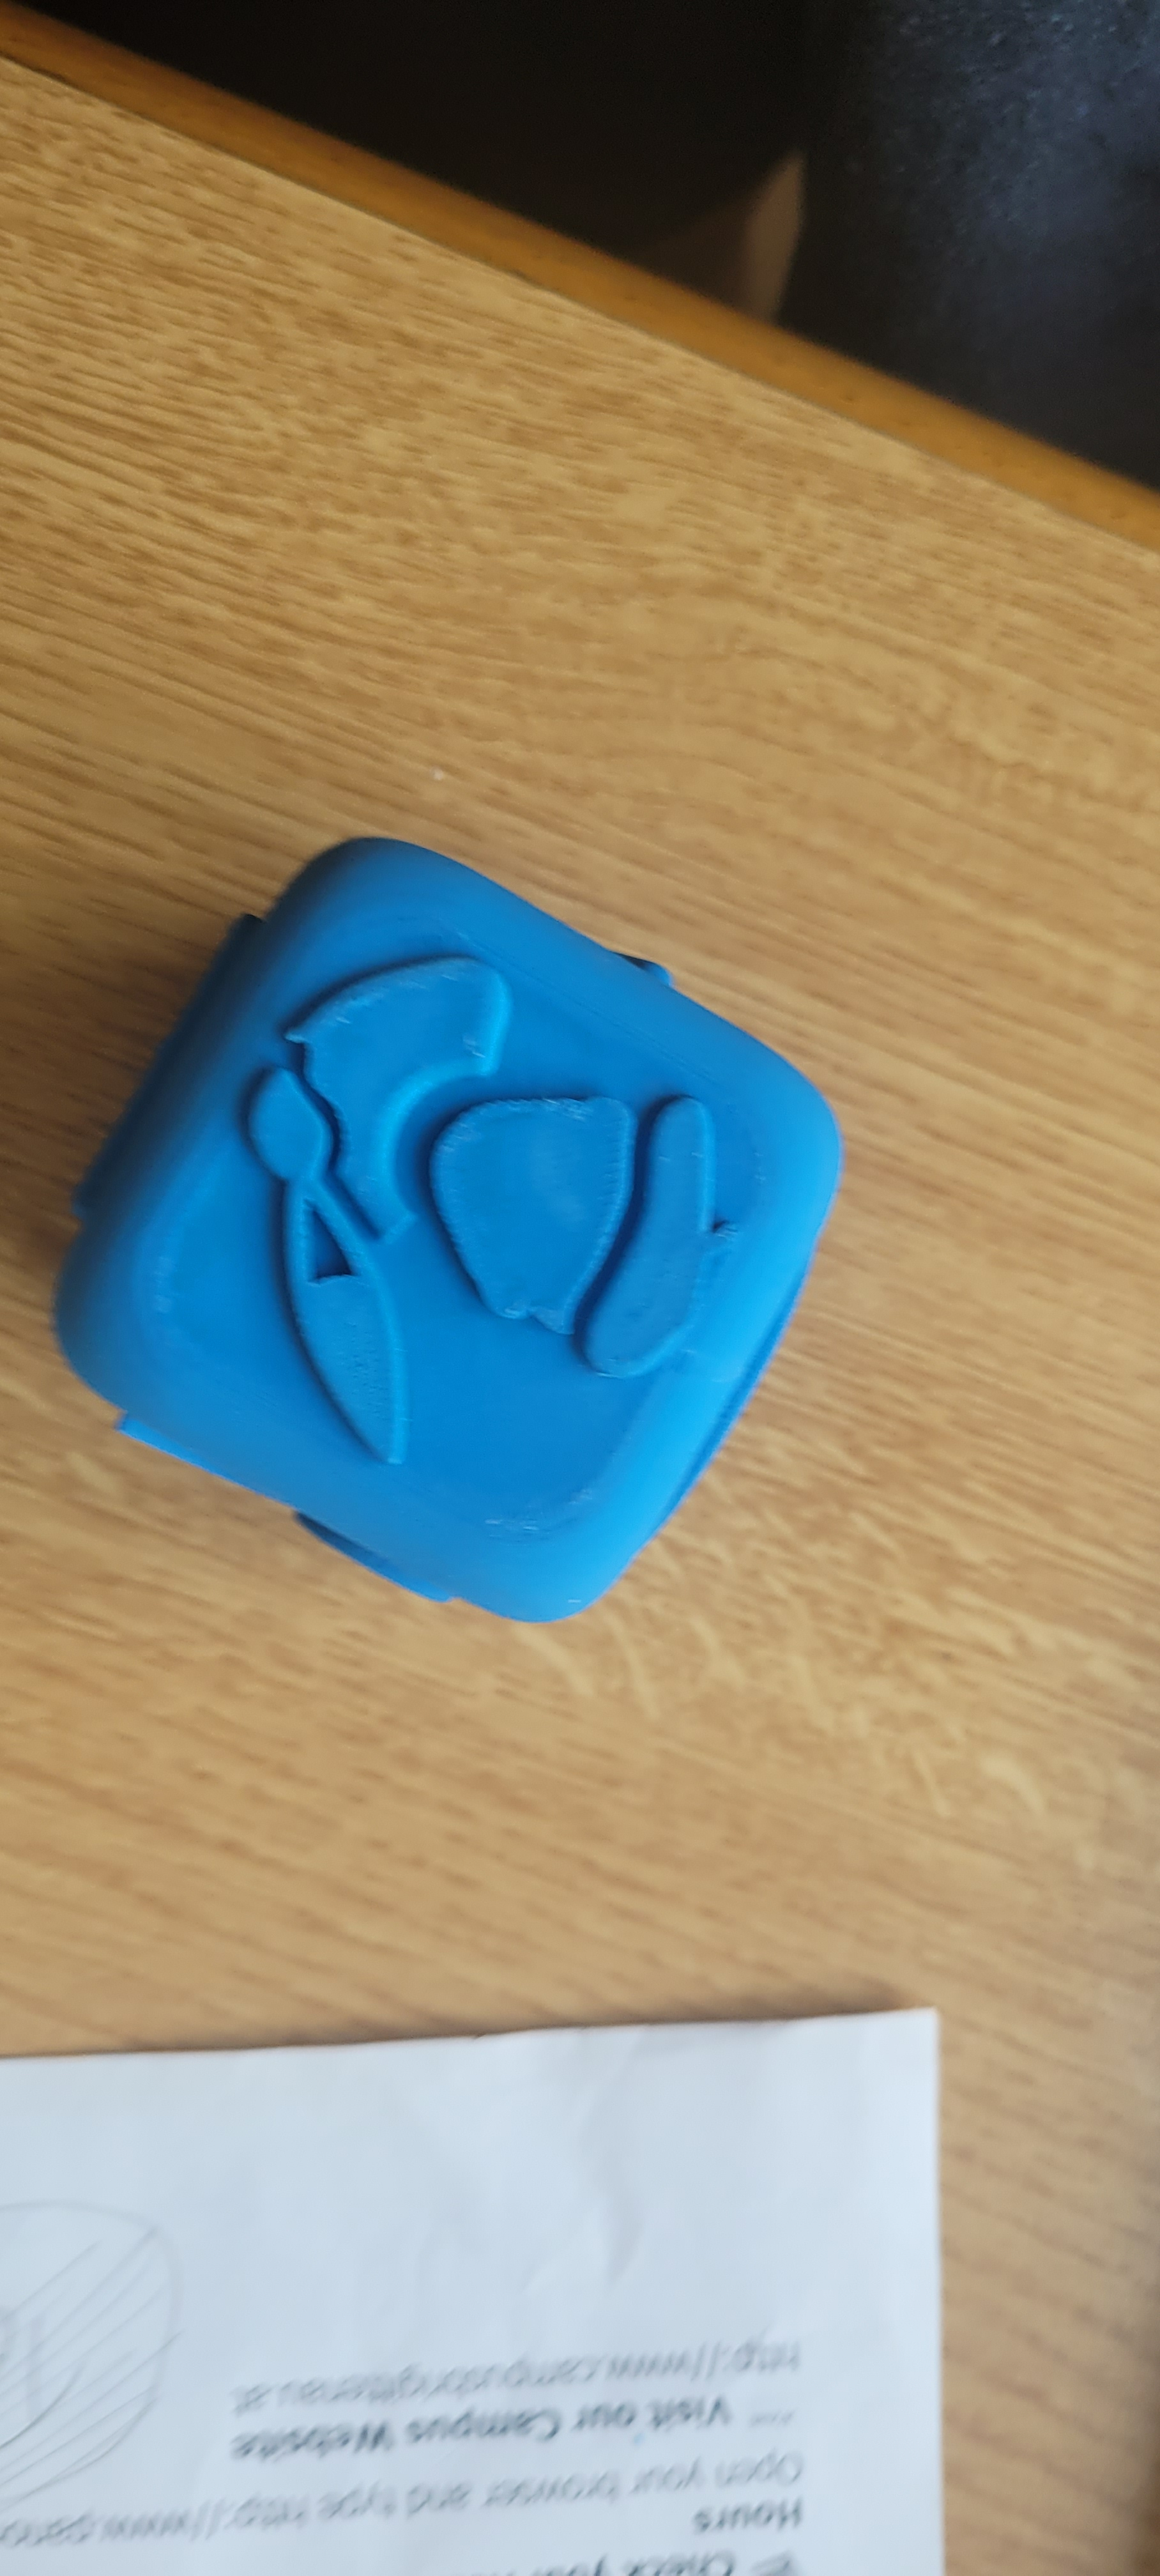Artist_Info: (82, 733, 868, 1807)
